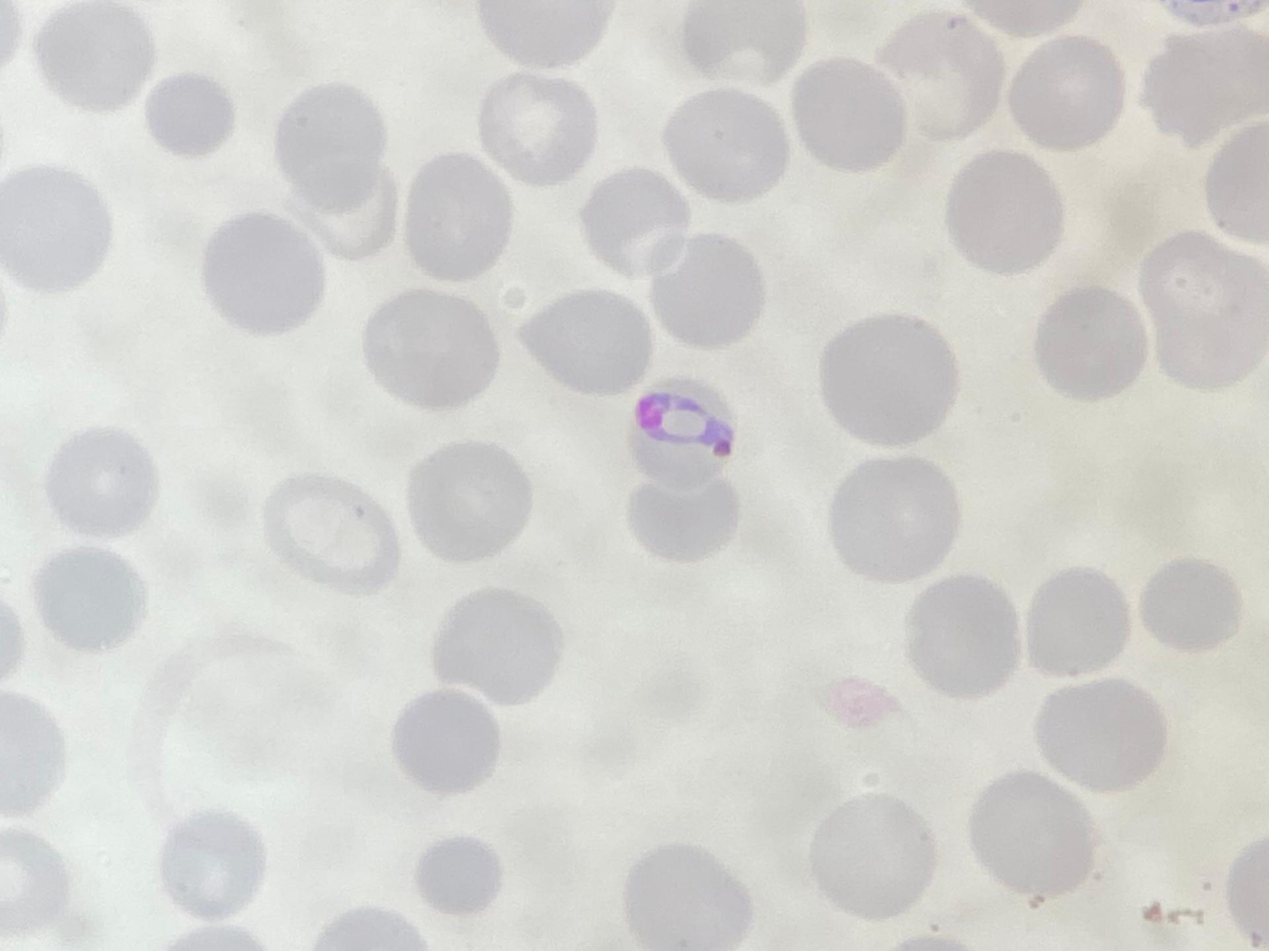Infected: (628, 372, 738, 496)
Uninfected: (1137, 232, 1266, 389), (818, 314, 958, 442), (872, 13, 1005, 144), (362, 287, 502, 411), (260, 470, 400, 591), (808, 793, 937, 919), (827, 460, 957, 584), (406, 439, 535, 562), (200, 211, 324, 337), (968, 772, 1093, 895), (429, 588, 558, 706), (1143, 25, 1264, 150), (944, 150, 1061, 274), (902, 574, 1020, 696), (662, 87, 788, 201), (1, 163, 112, 292), (1035, 679, 1161, 792), (274, 85, 387, 210), (403, 153, 515, 278), (787, 59, 905, 174), (619, 845, 748, 949), (521, 287, 648, 392), (35, 0, 153, 113), (1034, 286, 1148, 401), (43, 425, 159, 538), (1008, 38, 1123, 150), (480, 72, 598, 180), (31, 546, 146, 653), (652, 238, 763, 348), (1025, 568, 1133, 681), (578, 169, 689, 277), (388, 689, 501, 794), (159, 812, 266, 921), (1137, 556, 1242, 657), (679, 1, 803, 81), (627, 473, 738, 560), (1, 687, 68, 810), (1, 829, 74, 932), (142, 73, 233, 154), (414, 835, 502, 917)
